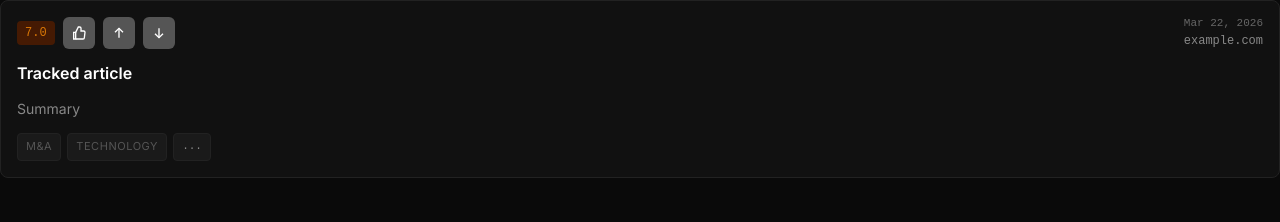
Test: ArticleCard › toggles matched search query behind ellipsis control
expect the text "US sports betting legislation" is not shown: met
Click the button named "show google search query": (192, 147) [173,133,211,161]
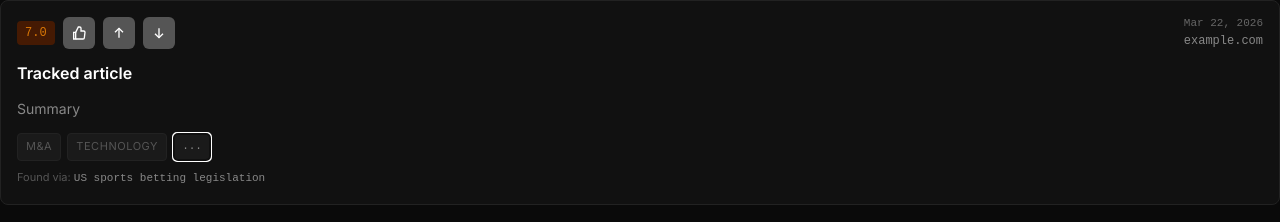
expect the text "US sports betting legislation" is shown: met, box [74,172,265,184]
expect the text "Found via:" is shown: met, box [17,170,71,184]
